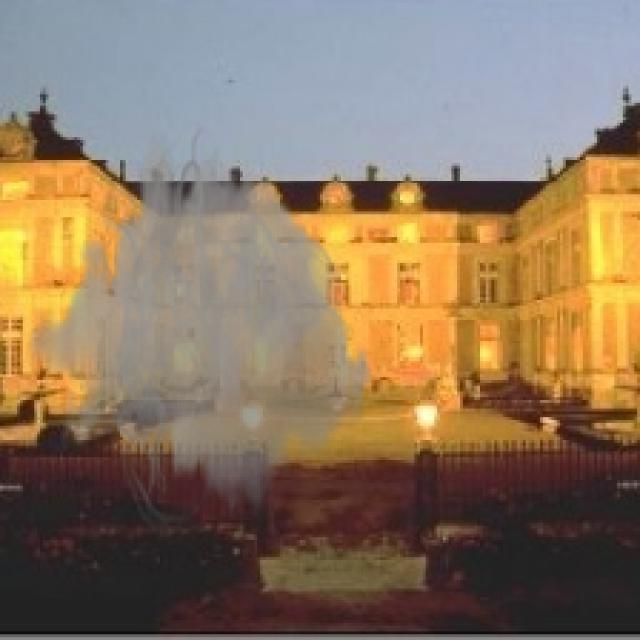Smoke: (26, 120, 374, 543)
